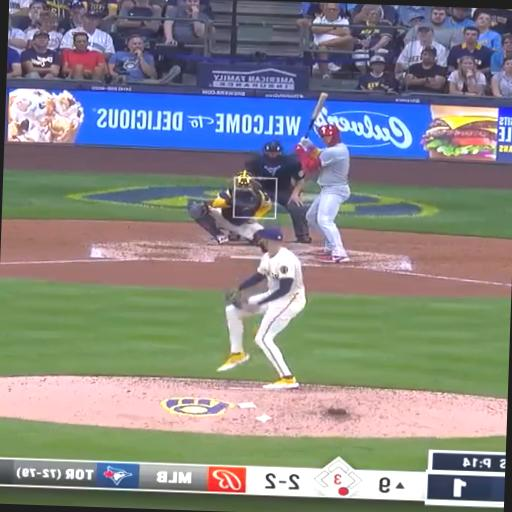bat: (305, 93, 327, 137)
